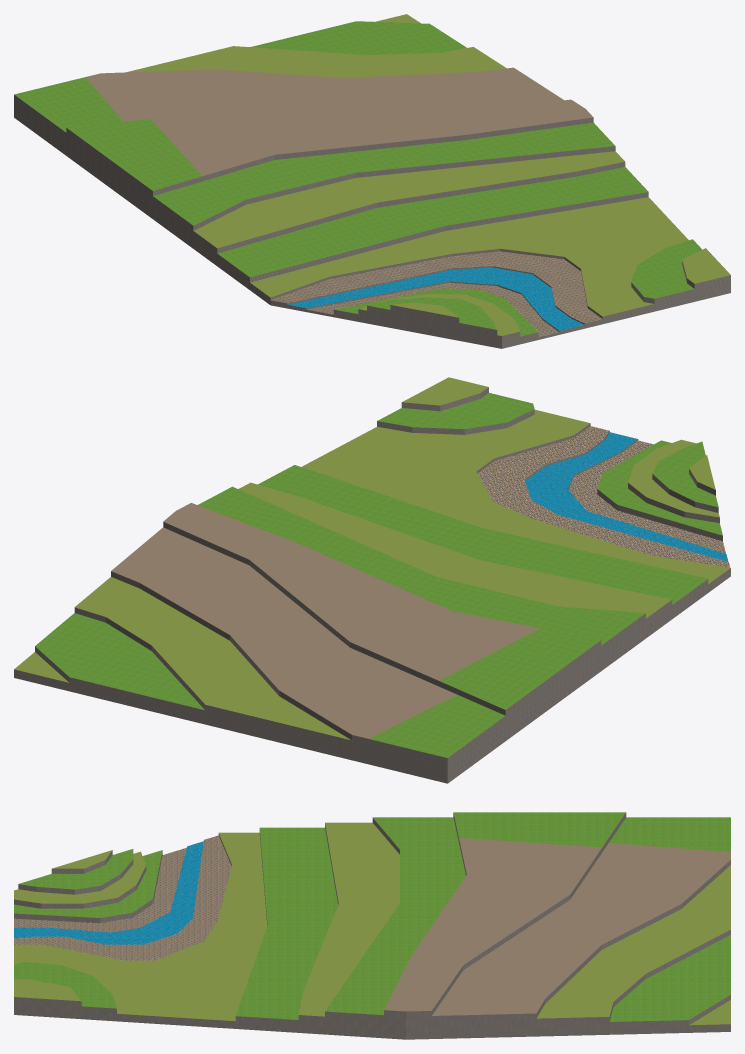
File: Base_Landmass_-_No_Vegetation_1.fbx
3 renders of one model, top to bottom at view 1: azimuth 30°, elevation 25°; view 2: azimuth 150°, elevation 25°; view 3: azimuth 270°, elevation 25°, orthographic. The views are drawn at different scales.
Parts seen in each view (by area): view 1: Model; view 2: Model; view 3: Model.
Boxes of the visible parts, x1,y1,x2,y2 form: Model: (14, 14, 730, 348); Model: (14, 377, 730, 783); Model: (14, 812, 730, 1039).
Size of the model in its own units: 1998 by 132 by 3039.
